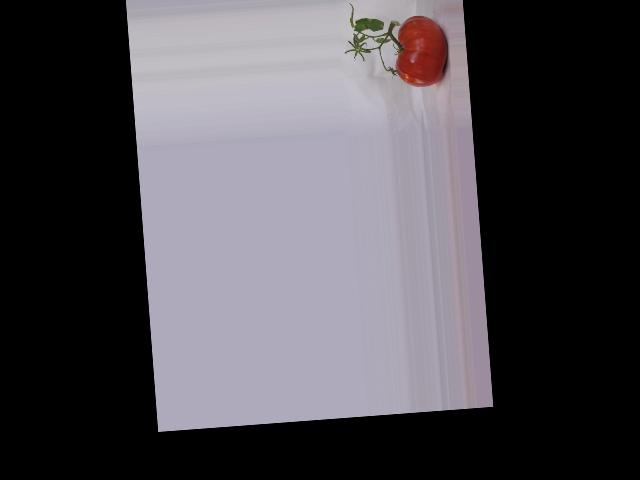tomato: (392, 13, 450, 89)
